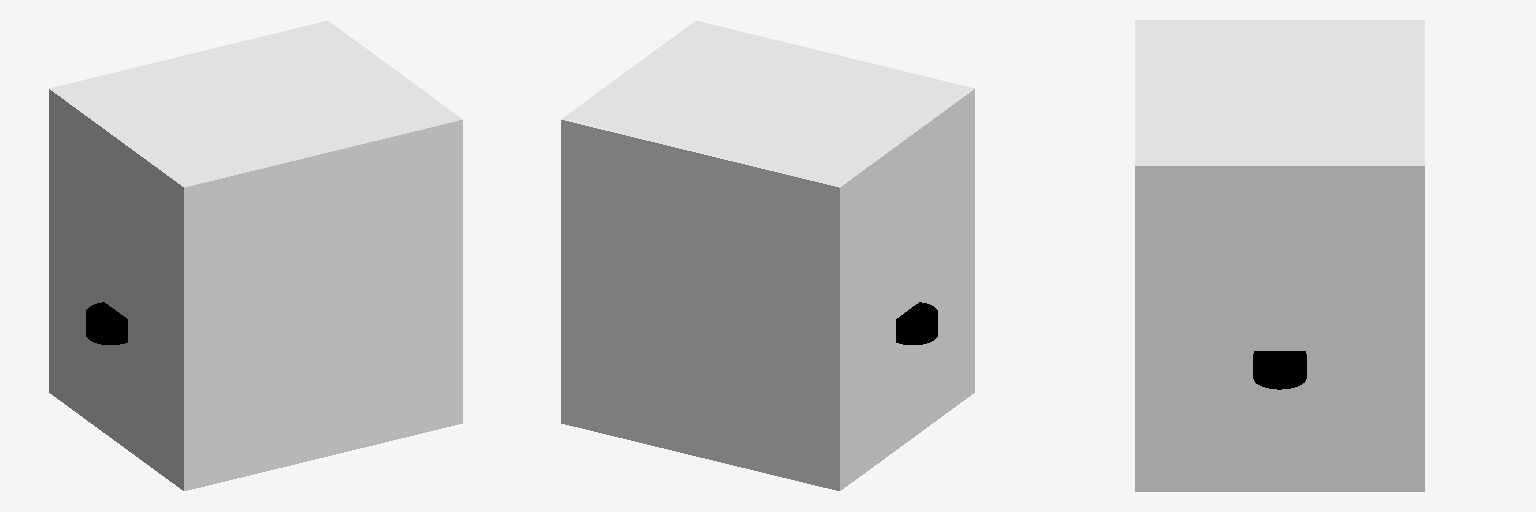
robot.urdf — amr:
  <robot name="amr">

    <material name= "white">
      <color rgba="1 1 1 1" />
    </material>

    <material name= "orange">
      <color rgba="1 0.3 0.1 1" />
    </material>

    <material name= "blue">
      <color rgba="0.2 0.2 1 1" />
    </material>

    <material name= "black">
      <color rgba="0 0 0 1" />
    </material>

    <material name= "red">
      <color rgba="1 0 0 1" />
    </material>


    <!-- Base Footprint -->
    <link name="base_link"/>

    <!-- Base Link -->
    <link name="chassis">
      <visual name="base_visual">
        <origin xyz="0 0 0.28" rpy="0 0 0"/>
        <geometry>
          <box size="0.5 0.42 0.52"/>
          <!-- <box size="0.45 0.72 0.61"/>-->
        </geometry>
        <material name="white"/>
      </visual>
    </link>

    <link name="laser">
      <visual name="laser_visual">
        <origin xyz="0 0 0" rpy="0 0 0"/>
        <geometry>
          <cylinder radius="0.0385" length="0.03885"/>
        </geometry>
        <material name="black"/>
      </visual>
    </link>

    <link name="lidar2_link">
      <visual name="lidar2_visual">
        <origin xyz="0 0 0" rpy="0 0 0"/>
        <geometry>
          <cylinder radius="0.0385" length="0.03885"/>
        </geometry>
        <material name="black"/>
      </visual>
    </link>

    <link name="lidar1_link">
      <visual name="lidar1_visual">
        <origin xyz="0 0 0" rpy="0 0 0"/>
        <geometry>
          <cylinder radius="0.0385" length="0.03885"/>
        </geometry>
          <material name="black"/>
      </visual>
    </link>

    <link name="imu_link">
      <visual name="imu_visual">
        <origin xyz="0 0 0" rpy="0 0 0"/>
        <geometry>
          <box size="0.04 0.03 0.01"/>
        </geometry>
        <material name="blue"/>
      </visual>
    </link>


    <!-- Left Wheel Link -->
    <link name="wheel_left_link">
      <collision name="wheel_left_collision">
        <origin xyz="0 0 0" rpy="0 0 0"/>
        <geometry>
          <cylinder radius="0" length="0.046"/>
        </geometry>
      </collision>
      <visual name="wheel_left_visual">
        <origin xyz="0 0 0" rpy="0 0 0"/>
        <geometry>
          <cylinder radius="0.065" length="0.046"/>
        </geometry>
        <material name="black"/>
      </visual>
    </link>

    <!-- Right Wheel Link -->
    <link name="wheel_right_link">
      <collision name="wheel_right_collision">
        <origin xyz="0 0 0" rpy="0 0 0"/>
        <geometry>
          <cylinder radius="0.065" length="0.046"/>
        </geometry>
      </collision>
      <visual name="wheel_right_visual">
        <origin xyz="0 0 0" rpy="0 0 0"/>
        <geometry>
          <cylinder radius="0.065" length="0.046"/>
        </geometry>
        <material name="black"/>
      </visual>
    </link>

    <!-- Joint definitions -->

    <joint name="base_joint" type="fixed">
      <parent link="base_link"/>
      <child link="chassis"/>
      <origin xyz="0 0 0.001" rpy="0 0 0"/>
    </joint>

    <!--
      IMU mount (interpreted from the user's measurement):
      x = +0.0045 m  : robot front direction
      y = +0.0025 m  : robot left direction
      z = +0.1350 m  : robot up direction

      IMU axis mounting:
      imu x -> robot right
      imu y -> robot front
      imu z -> robot up

      This is a yaw rotation of -90 deg about Z from base_link to imu_link.
    -->
    <joint name="imu_joint" type="fixed">
      <parent link="base_link"/>
      <child link="imu_link"/>
      <origin xyz="0.0045 0.0025 0.135" rpy="0 0 -1.57079632679"/>
    </joint>

    <joint name="wheel_left_joint" type="continuous">
      <parent link="chassis"/>
      <child link="wheel_left_link"/>
      <origin xyz="0 0.1 0.065" rpy="-1.57 0 0"/>
      <axis xyz="0 0 1"/>
    </joint>

    <joint name="wheel_right_joint" type="continuous">
      <parent link="chassis"/>
      <child link="wheel_right_link"/>
      <origin xyz="0 -0.1 0.065" rpy="1.57 0 0"/>
      <axis xyz="0 0 1"/>
    </joint>

    <joint name="lidar_joint" type="fixed">
      <parent link="chassis"/>
      <child link="laser"/>
      <origin xyz="0.0 0.0 0.225" rpy="3.14 0 0"/>
      <!-- <axis xyz="0 1 0"/> -->
    </joint>

    <joint name="lidar1_joint" type="fixed">
      <parent link="chassis"/>
      <child link="lidar1_link"/>
      <origin xyz="0.26 0.0 0.225" rpy="3.14 0 -3.14"/>
      <!-- <axis xyz="0 1 0"/> -->
    </joint>

    <joint name="lidar2_joint" type="fixed">
      <parent link="chassis"/>
      <child link="lidar2_link"/>
      <origin xyz="-0.26 -0.0 0.225" rpy="3.14 0 0"/>
      <!-- <axis xyz="0 1 0"/> -->
    </joint>


  </robot>

--- What the picture shows (computed from the rendered views, not written in the file) ---
The picture shows the robot from 3 angles, left to right: view 1: azimuth 30°, elevation 25°; view 2: azimuth 150°, elevation 25°; view 3: azimuth 270°, elevation 25°; orthographic projection.
Robot: amr — 8 links, 7 joints (2 continuous, 5 fixed); root link base_link; default pose: every joint at zero.
Visible links, largest first — view 1: chassis, lidar2_link; view 2: chassis, lidar2_link; view 3: chassis, lidar1_link.
Link boxes in pixels (x1,y1,x2,y2): chassis: (49,21,462,490); lidar2_link: (86,302,127,344); chassis: (561,21,974,490); lidar2_link: (896,302,937,344); chassis: (1135,20,1424,491); lidar1_link: (1253,351,1306,389).
Bounding box of the posed robot: 0.597 × 0.42 × 0.54 m (x, y, z).
Geometry: primitives only (box / cylinder / sphere), no mesh files.
